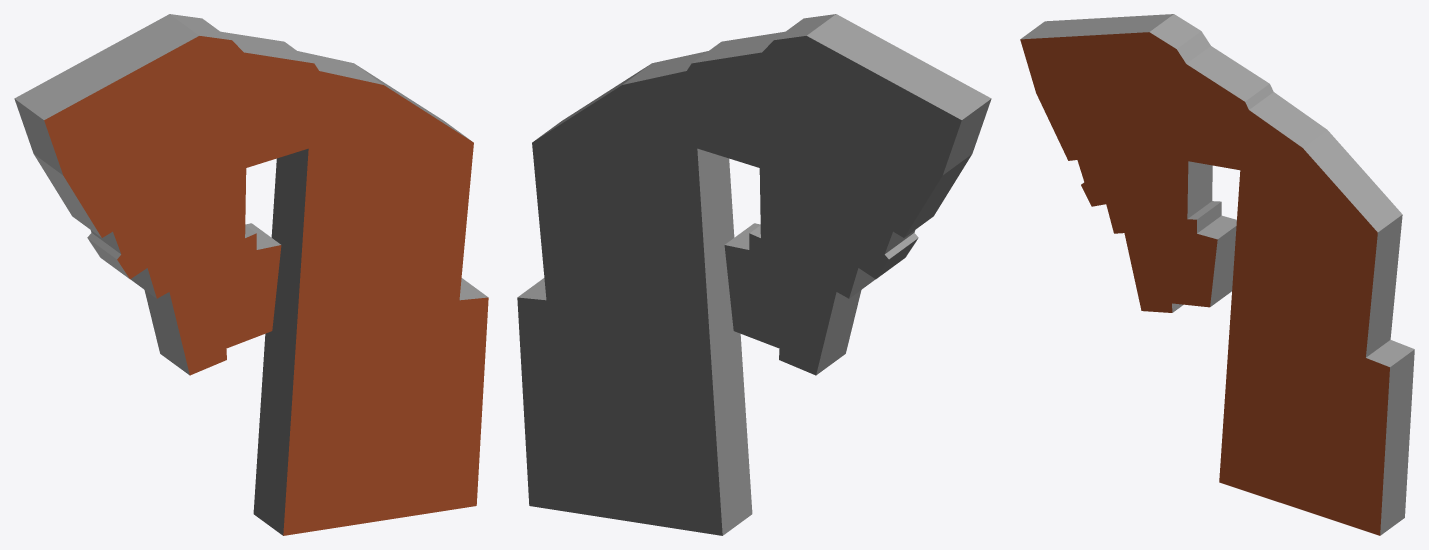
File: construction_2203_assumed_A_Casa_h6m.obj
3 renders of one model, left to right at view 1: azimuth 30°, elevation 25°; view 2: azimuth 150°, elevation 25°; view 3: azimuth 330°, elevation 25°, orthographic. The views are drawn at different scales.
Parts seen in each view (by area): view 1: construction_2203_assumed_A_Casa; view 2: construction_2203_assumed_A_Casa; view 3: construction_2203_assumed_A_Casa.
Part boxes in pixels (x1,y1,x2,y2): construction_2203_assumed_A_Casa: (14, 14, 488, 535); construction_2203_assumed_A_Casa: (517, 14, 991, 535); construction_2203_assumed_A_Casa: (1020, 14, 1414, 535).
Size of the model in its own units: 51.74 by 59.81 by 6.
